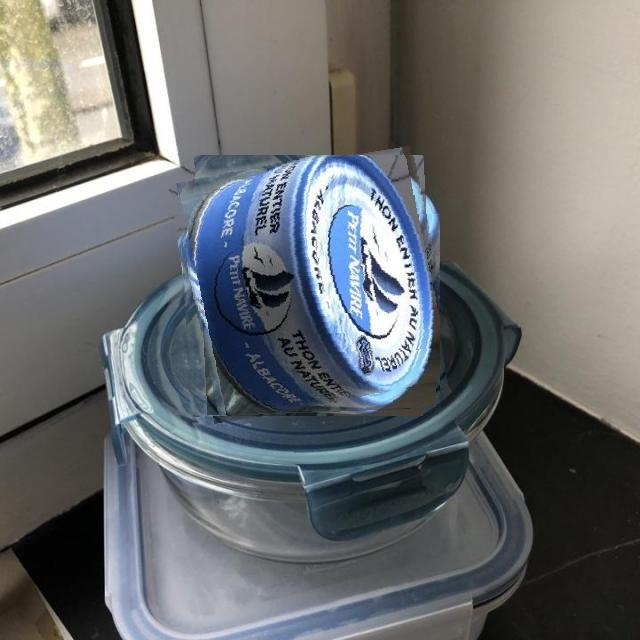recyclable: (177, 155, 440, 417)
